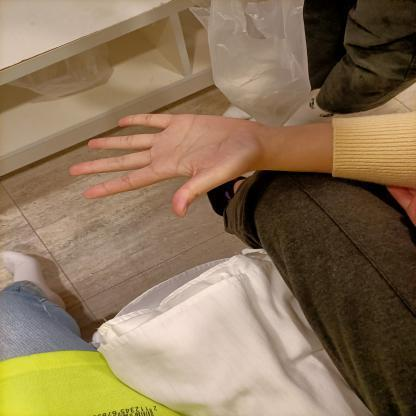bare_hand: (64, 103, 286, 219)
